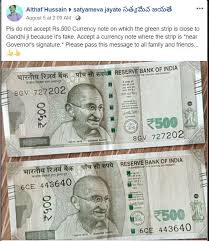fiveHundred: (10, 79, 190, 134), (16, 173, 192, 228)
